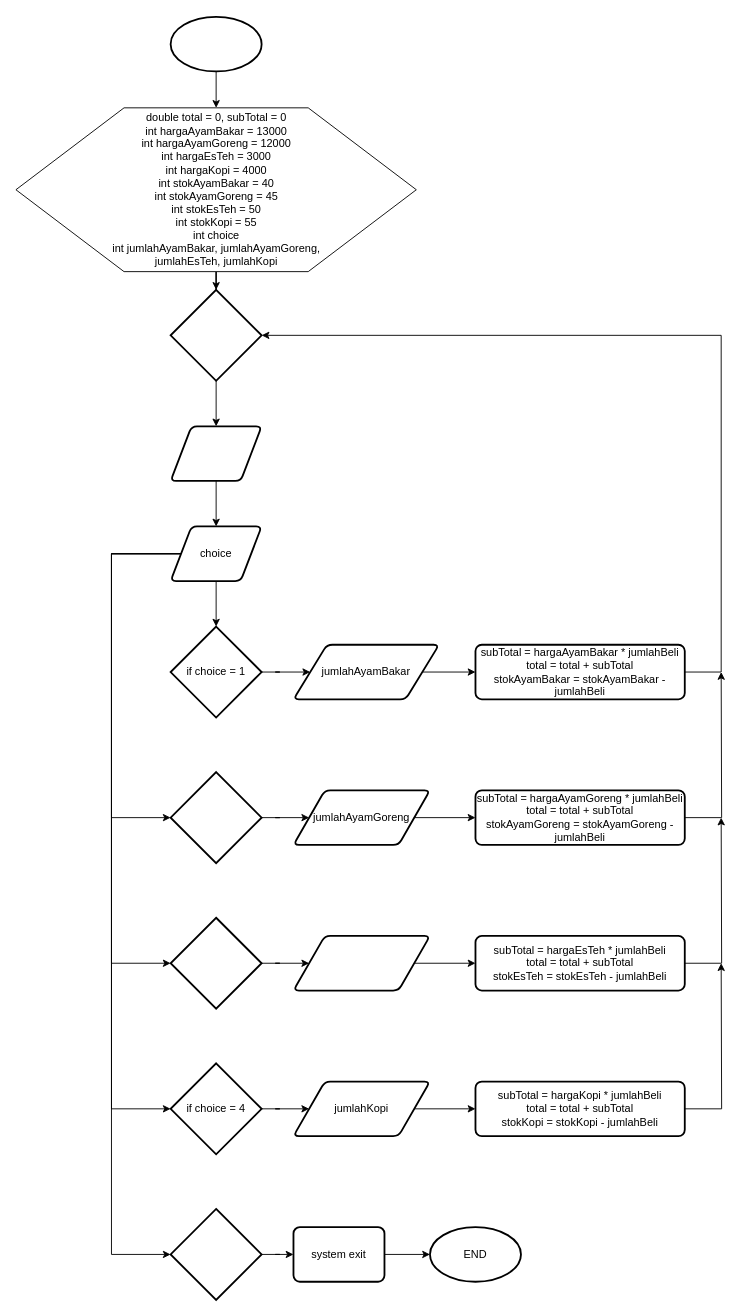
Some shapes in this 745 by 1316 pixel diagram are drawn without their labels. Here are the shapes that lost their labels. From the top down, the centre of each, then its label:
At [215,43]: "START".
At [215,334]: "while(true)".
At [215,453]: "output total".
At [215,817]: "if choice = 2".
At [215,962]: "if choice = 3".
At [361,963]: "jumlahEsTeh".
At [215,1254]: "if choice = 5".
